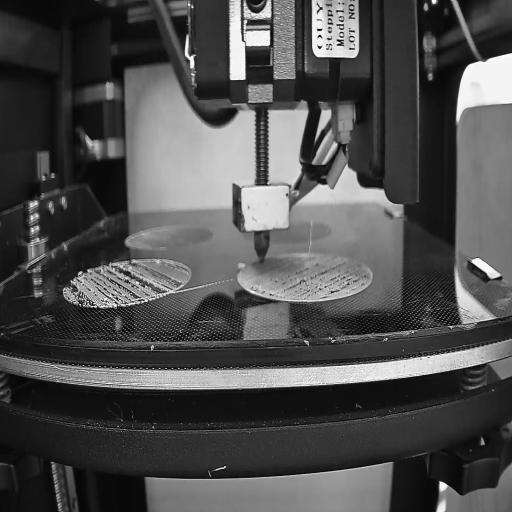under_extrusion: (66, 253, 188, 309), (269, 270, 371, 296), (250, 278, 265, 296)
